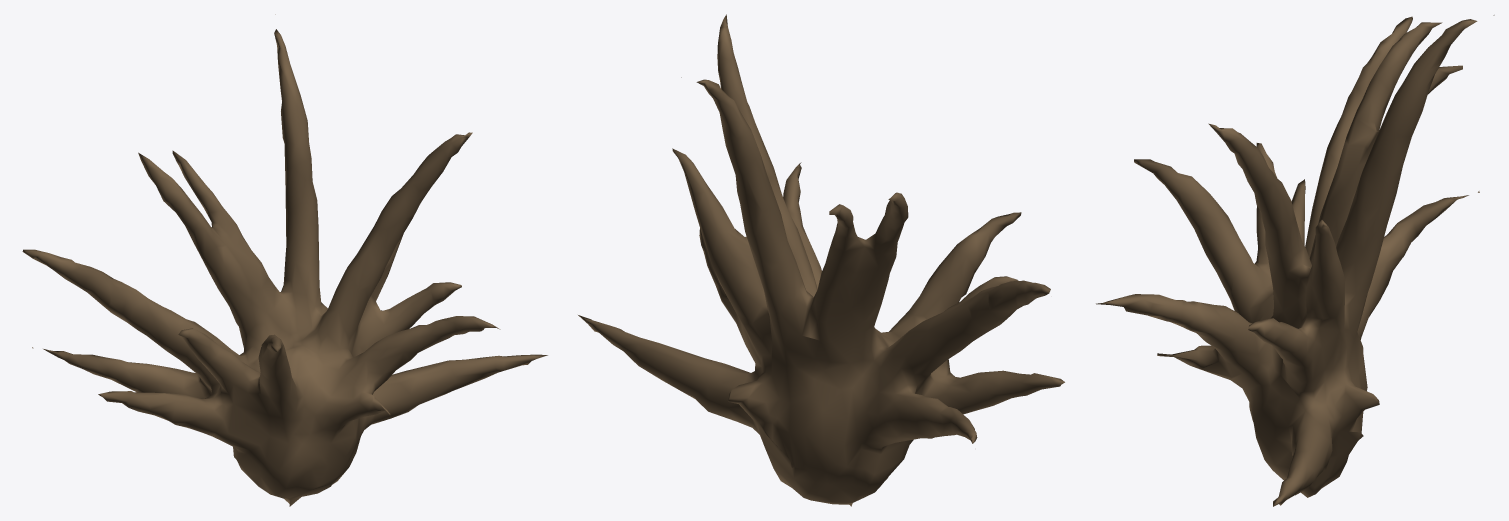
File: spiderwood-mobile.glb
3 views of the same model, side by side, from view 1: azimuth 30°, elevation 25°; view 2: azimuth 150°, elevation 25°; view 3: azimuth 270°, elevation 25° (orthographic). The views are drawn at different scales.
Parts seen in each view (by area): view 1: spiderwood; view 2: spiderwood; view 3: spiderwood.
Part boxes in pixels (x1,y1,x2,y2): spiderwood: (22,14,547,506); spiderwood: (578,14,1064,506); spiderwood: (1096,15,1494,506).
Size of the model in its own units: 1.4 by 1.18 by 0.848.
